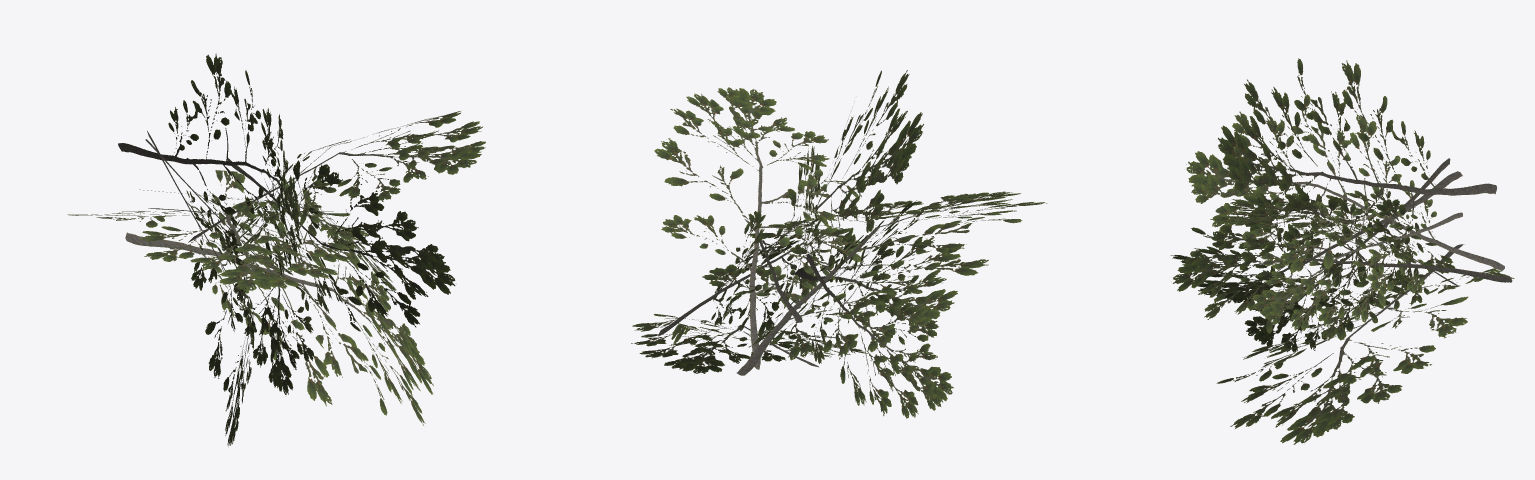
Rendered from plant_small_04.obj.
3 renders of one model, left to right at view 1: azimuth 30°, elevation 25°; view 2: azimuth 150°, elevation 25°; view 3: azimuth 270°, elevation 25°, orthographic. The views are drawn at different scales.
Parts seen in each view (by area): view 1: plant_small_04; view 2: plant_small_04; view 3: plant_small_04.
Boxes of the visible parts, x1,y1,x2,y2 form: plant_small_04: (67,53,485,446); plant_small_04: (631,70,1047,418); plant_small_04: (1170,58,1514,444).
Size of the model in its own units: 3.14 by 2.79 by 2.58.
Materials: 1 (1 with a texture image).
